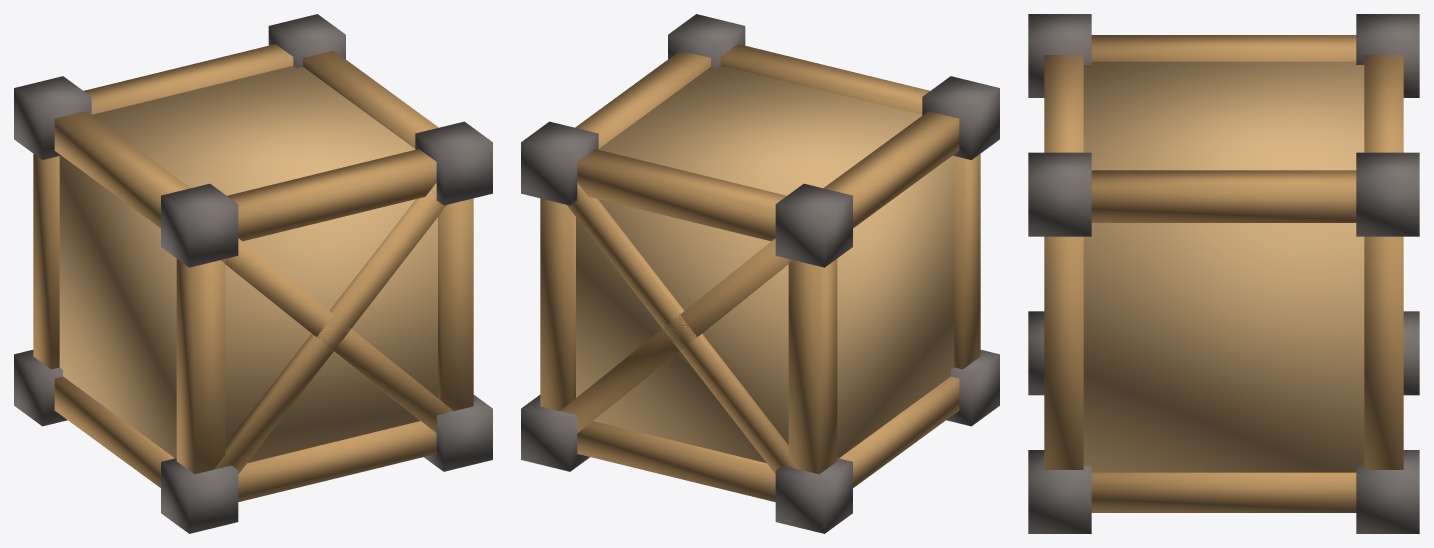
Rendered from crate.glb.
3 views of the same model, side by side, from view 1: azimuth 30°, elevation 25°; view 2: azimuth 150°, elevation 25°; view 3: azimuth 270°, elevation 25° (orthographic). The views are drawn at different scales.
Parts seen in each view (by area): view 1: Wooden_Crate; view 2: Wooden_Crate; view 3: Wooden_Crate.
Part boxes in pixels (x1=…): Wooden_Crate: x1=14, y1=14, x2=492, y2=533; Wooden_Crate: x1=521, y1=14, x2=999, y2=533; Wooden_Crate: x1=1028, y1=14, x2=1419, y2=533.
Size of the model in its own units: 1.25 by 1.25 by 1.25.
